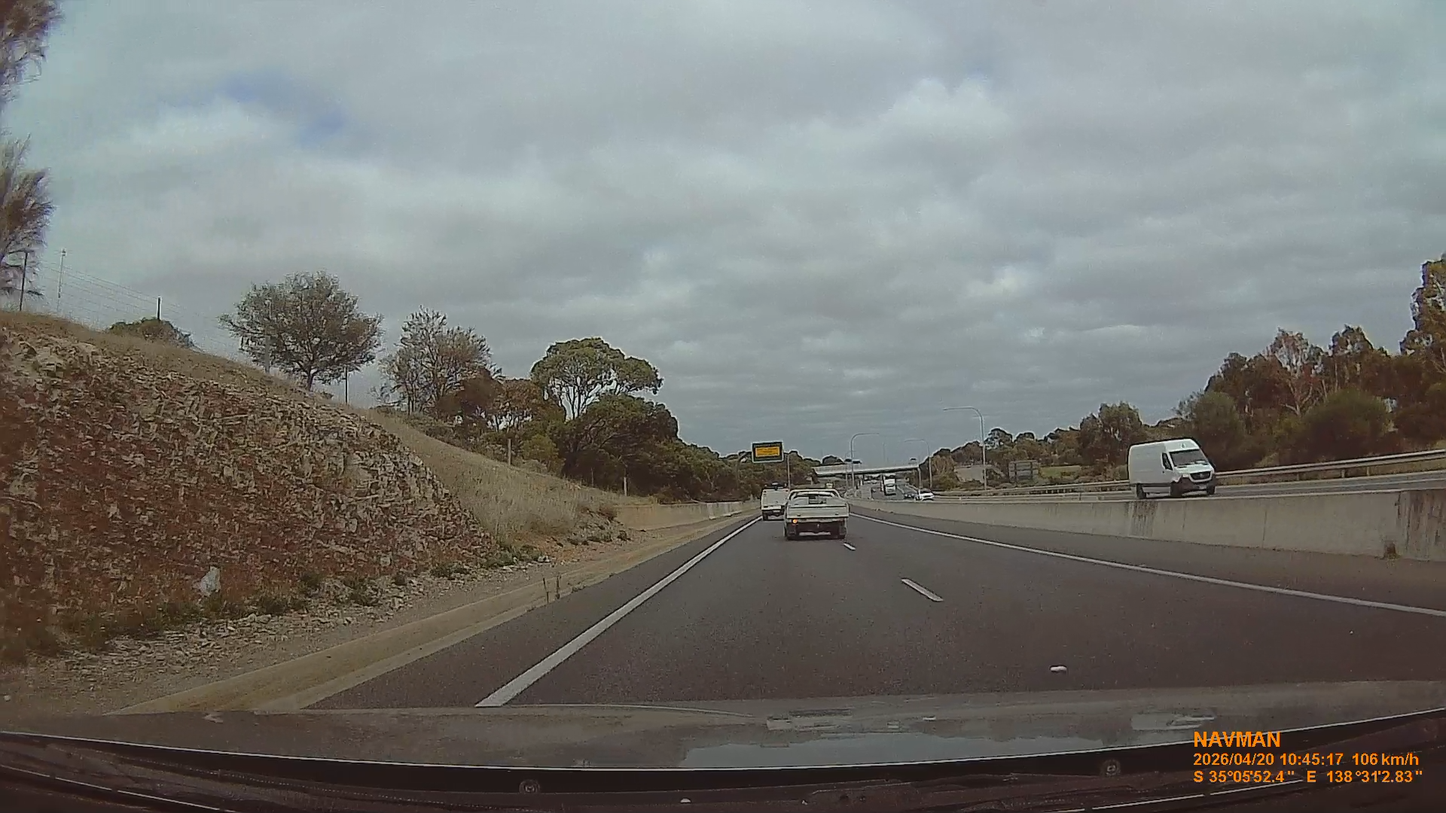road barriers: (851, 483, 1445, 562), (1219, 449, 1445, 487)
